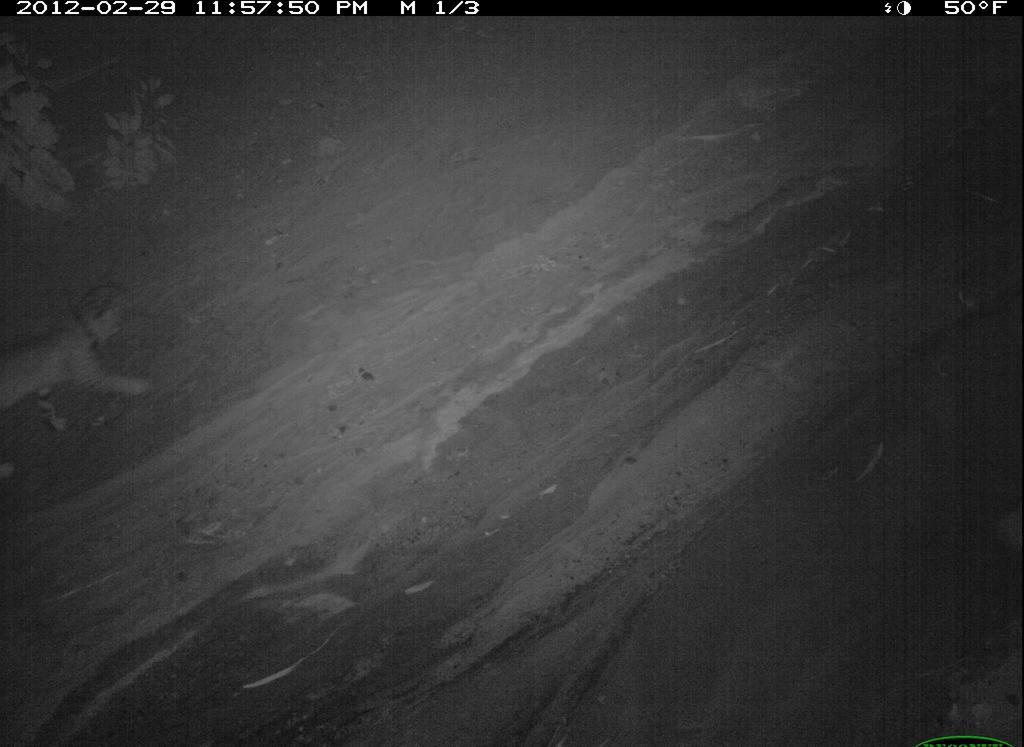bobcat: (1, 555, 315, 747)
